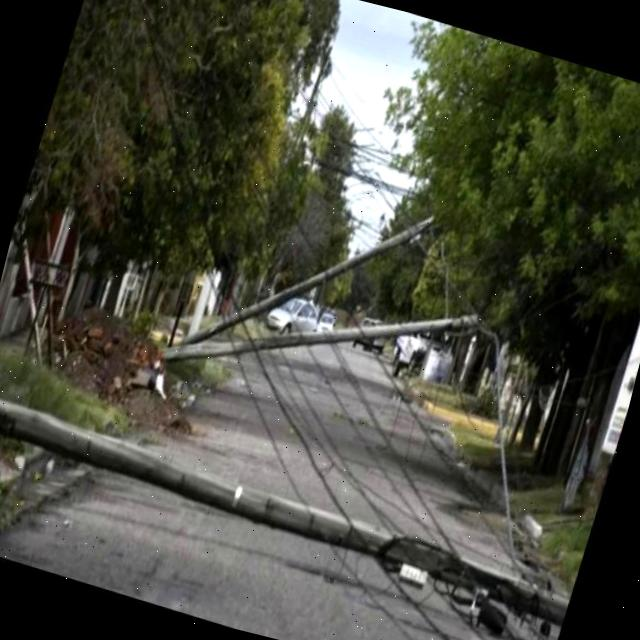Broken Pole: (0, 400, 567, 626), (175, 215, 434, 344), (161, 313, 474, 361)
